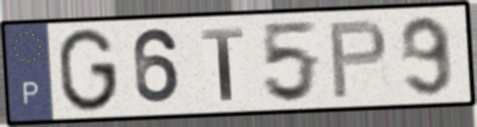5: (257, 18, 321, 105)
6: (130, 26, 182, 109)
9: (398, 13, 454, 98)
G: (56, 26, 119, 115)
P: (326, 17, 390, 102)
T: (198, 25, 246, 104)
